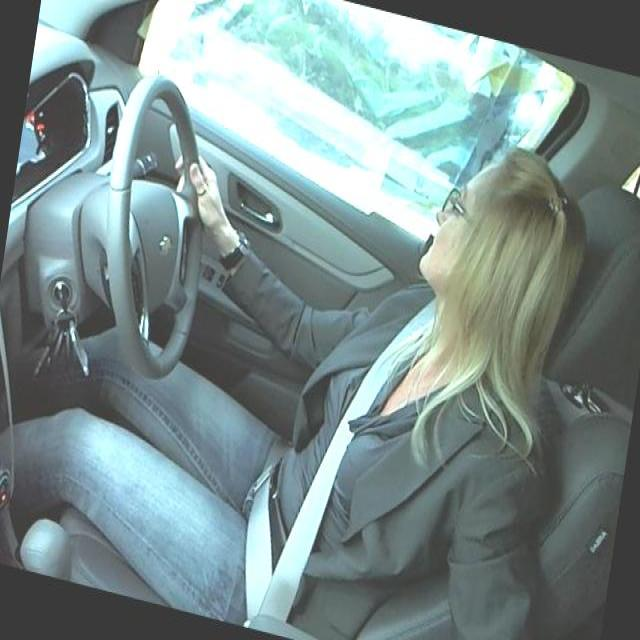seatbelt: (234, 284, 492, 640)
